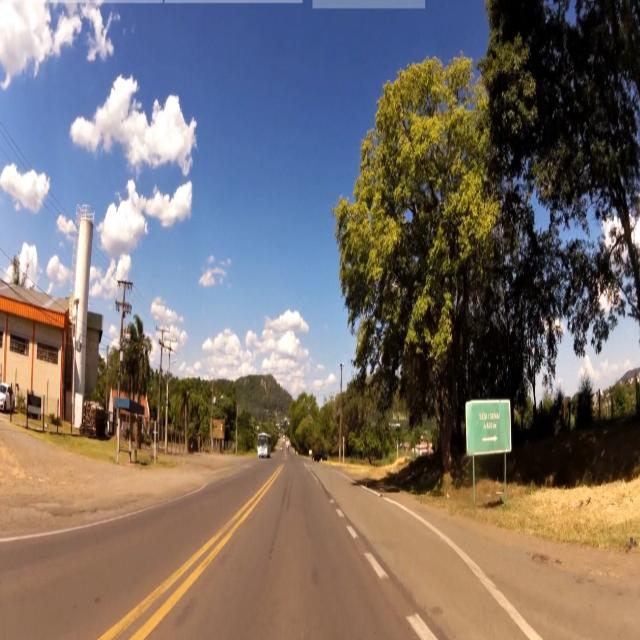I-4: (466, 407, 510, 452)
